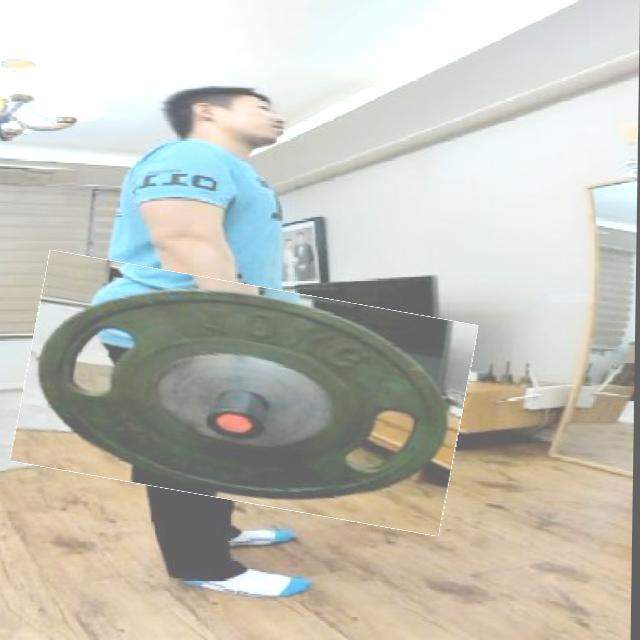barbell: (20, 269, 473, 519)
